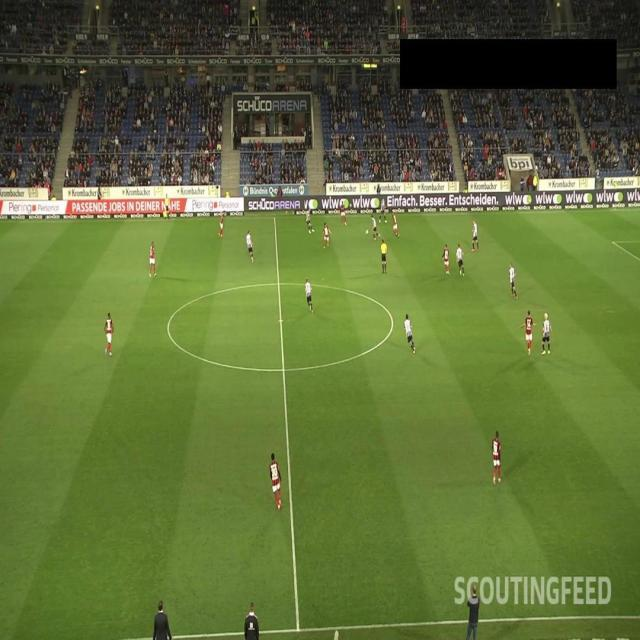ball: (365, 229, 369, 236)
player: (519, 309, 538, 356), (270, 453, 283, 511), (492, 431, 502, 486), (404, 313, 417, 355), (541, 312, 553, 356), (104, 312, 114, 357), (508, 262, 518, 300), (305, 277, 314, 314), (456, 243, 465, 277), (471, 219, 480, 252), (442, 244, 451, 276), (246, 229, 254, 263), (149, 241, 156, 279), (323, 222, 332, 248), (306, 206, 314, 234), (392, 212, 400, 238), (379, 198, 387, 223), (219, 211, 226, 237), (340, 202, 347, 226), (372, 214, 378, 241)
referee: (380, 237, 387, 274), (164, 193, 170, 219)
